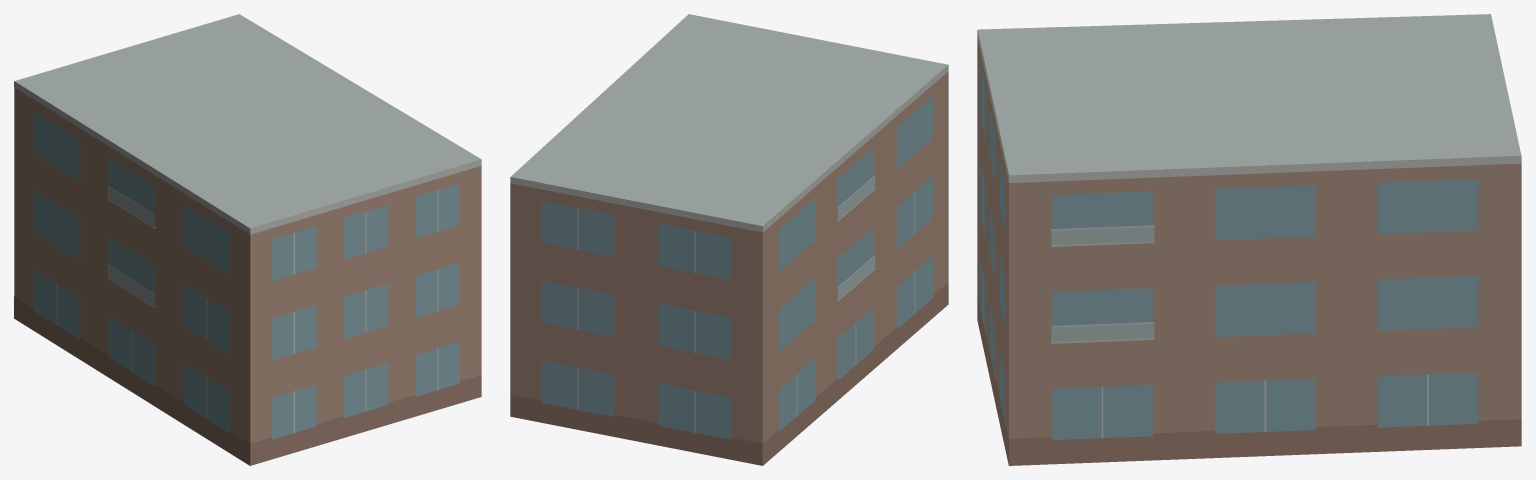
File: survey-upis-32704613.glb
3 views of the same model, side by side, from view 1: azimuth 30°, elevation 25°; view 2: azimuth 150°, elevation 25°; view 3: azimuth 270°, elevation 25° (orthographic). The views are drawn at different scales.
Visible parts, largest first — view 1: survey-upis-32704613.tmp; view 2: survey-upis-32704613.tmp; view 3: survey-upis-32704613.tmp.
Part boxes in pixels (<box>): survey-upis-32704613.tmp: <box>14,14,481,465</box>; survey-upis-32704613.tmp: <box>510,14,948,465</box>; survey-upis-32704613.tmp: <box>977,14,1521,465</box>.
Size of the model in its own units: 10.91 by 9.15 by 15.54.
